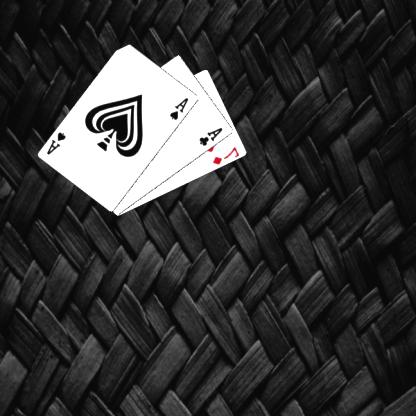7D: (212, 144, 242, 166)
AC: (198, 124, 226, 148)
AS: (46, 129, 70, 156), (169, 95, 192, 122)
